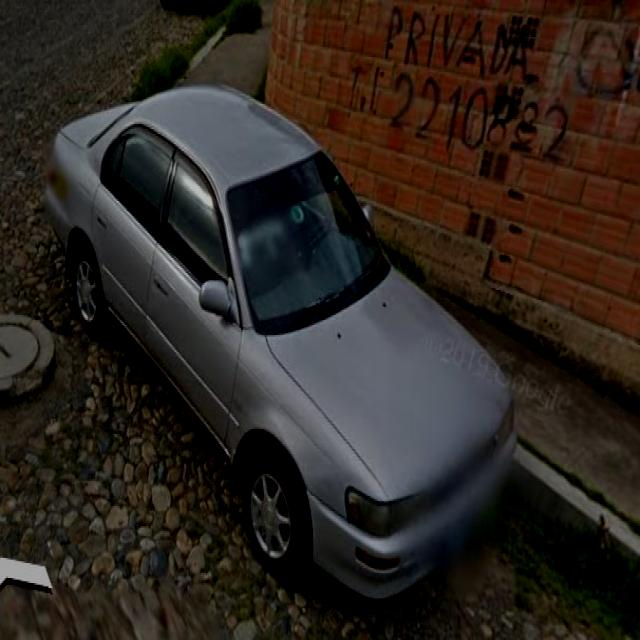car: (32, 92, 520, 620)
